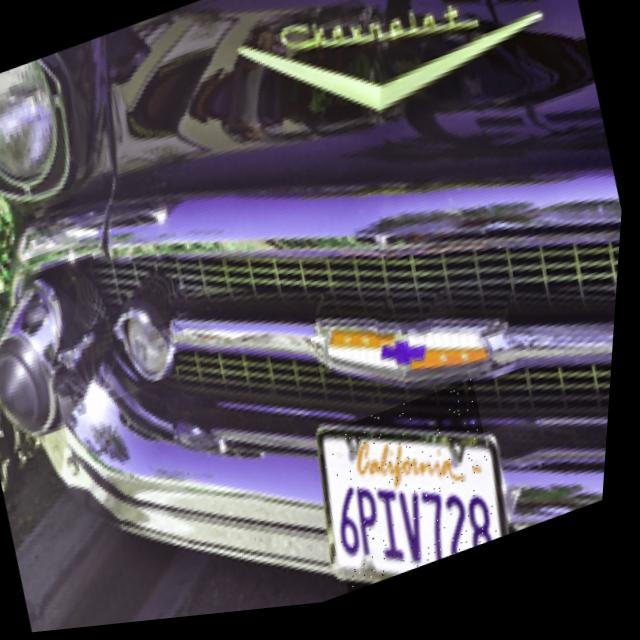license_plate: (314, 386, 521, 604)
